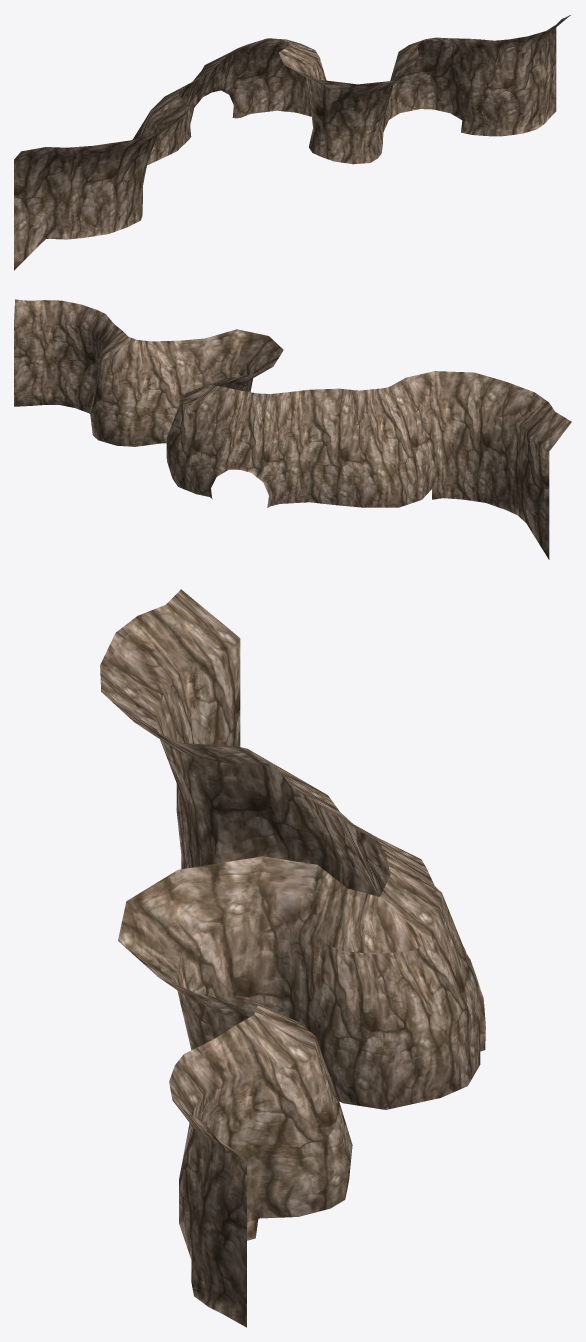
The model's file is OVERHILL_A_01_OBJECT155.fbx.
3 views of the same model, one above another, from view 1: azimuth 30°, elevation 25°; view 2: azimuth 150°, elevation 25°; view 3: azimuth 270°, elevation 25° (orthographic). The views are drawn at different scales.
Visible parts, largest first — view 1: OVERHILL_A_01_OBJECT155; view 2: OVERHILL_A_01_OBJECT155; view 3: OVERHILL_A_01_OBJECT155.
Part boxes in pixels (bbox=[...]): OVERHILL_A_01_OBJECT155: bbox=[14, 15, 570, 270]; OVERHILL_A_01_OBJECT155: bbox=[14, 299, 571, 559]; OVERHILL_A_01_OBJECT155: bbox=[100, 589, 485, 1327].
Size of the model in its own units: 419941 by 99283 by 127914.
1 material, 1 textured.
